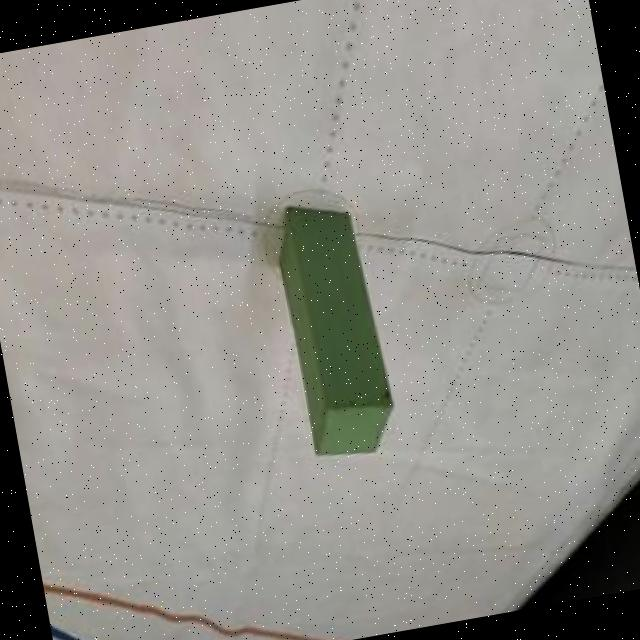greenbox: (266, 198, 400, 464)
